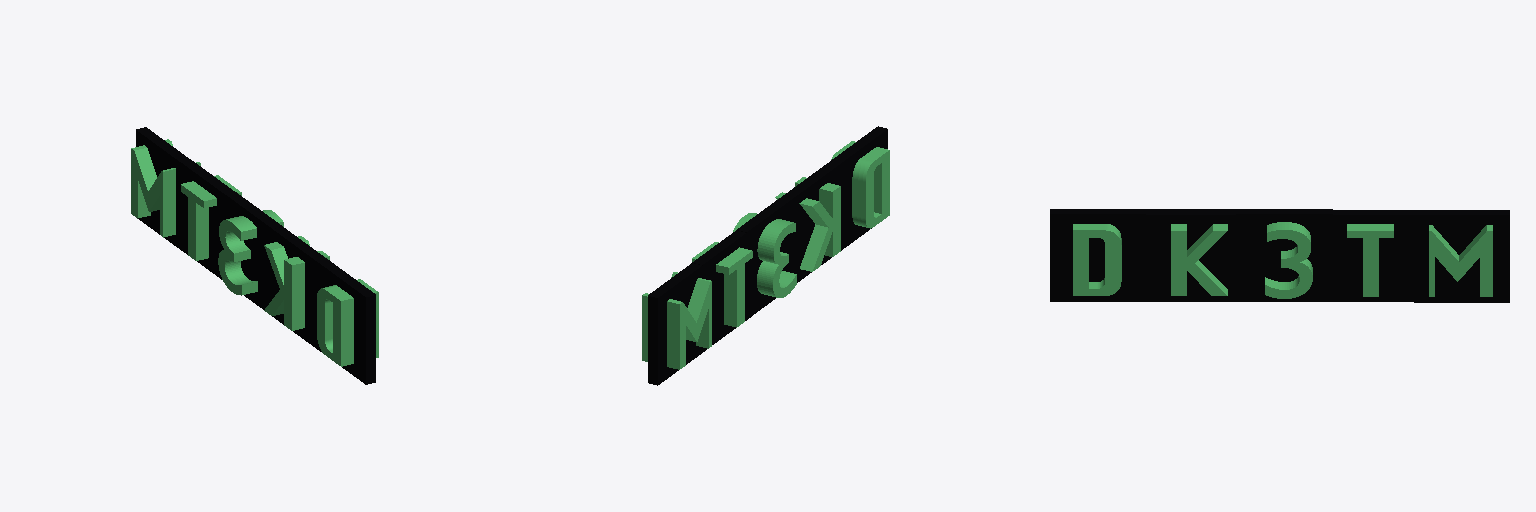
The picture shows the model from 3 angles: view 1: azimuth 30°, elevation 25°; view 2: azimuth 150°, elevation 25°; view 3: azimuth 270°, elevation 25°; orthographic projection.
Visible parts, largest first — view 1: window.001, Text.002_Text.001, Text.005_Text.004, window, Text.003_Text.002, Text.001_Text, window.002, window.004, window.003, Text.004_Text.003; view 2: Text.005_Text.004, window.004, Text.002_Text.001, Text.003_Text.002, Text.001_Text, window, window.003, window.001, window.002, Text.004_Text.003; view 3: window.003, window, window.001, window.004, window.002, Text.002_Text.001, Text.003_Text.002, Text.005_Text.004, Text.001_Text, Text.004_Text.003.
Part boxes in pixels (left/top/right/bottom): window.001: left=318, top=260, right=375, bottom=384; Text.002_Text.001: left=317, top=279, right=378, bottom=366; Text.005_Text.004: left=131, top=139, right=200, bottom=237; window: left=224, top=191, right=282, bottom=309; Text.003_Text.002: left=264, top=236, right=329, bottom=330; Text.001_Text: left=218, top=210, right=283, bottom=295; window.002: left=270, top=227, right=327, bottom=349; window.004: left=136, top=127, right=189, bottom=251; window.003: left=180, top=159, right=233, bottom=279; Text.004_Text.003: left=181, top=175, right=241, bottom=260; Text.005_Text.004: left=642, top=272, right=711, bottom=369; window.004: left=648, top=263, right=705, bottom=385; Text.002_Text.001: left=831, top=141, right=889, bottom=228; Text.003_Text.002: left=775, top=177, right=840, bottom=271; Text.001_Text: left=733, top=213, right=796, bottom=297; window: left=737, top=195, right=794, bottom=318; window.003: left=692, top=230, right=750, bottom=350; window.001: left=830, top=126, right=887, bottom=250; window.002: left=785, top=162, right=840, bottom=282; Text.004_Text.003: left=692, top=242, right=752, bottom=327; window.003: left=1325, top=210, right=1420, bottom=301; window: left=1236, top=209, right=1332, bottom=301; window.001: left=1050, top=209, right=1145, bottom=301; window.004: left=1414, top=210, right=1509, bottom=302; window.002: left=1144, top=209, right=1240, bottom=301; Text.002_Text.001: left=1073, top=224, right=1121, bottom=295; Text.003_Text.002: left=1171, top=224, right=1227, bottom=295; Text.005_Text.004: left=1429, top=225, right=1492, bottom=296; Text.001_Text: left=1265, top=222, right=1312, bottom=298; Text.004_Text.003: left=1347, top=224, right=1393, bottom=296.
Bounding box in the file's own units: 1.02 × 2.02 × 9.53.